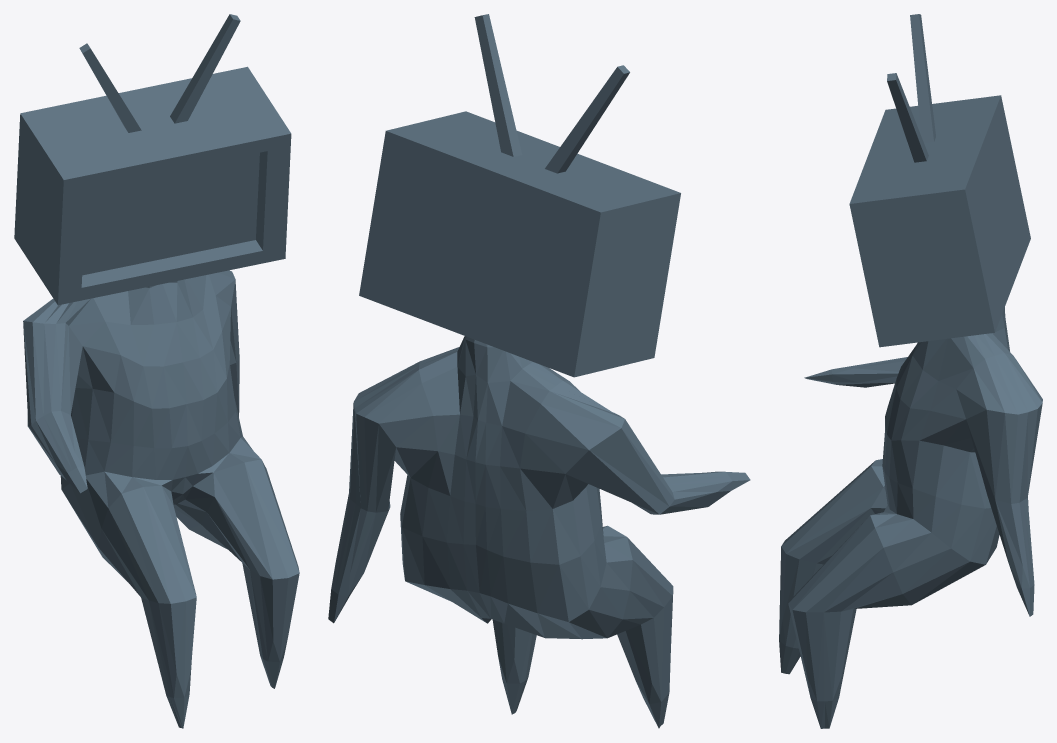
The model's file is TVhead-sitting2.dae.
The picture shows the model from 3 angles, left to right: view 1: azimuth 30°, elevation 25°; view 2: azimuth 150°, elevation 25°; view 3: azimuth 270°, elevation 25°; orthographic projection. The views are drawn at different scales.
Parts seen in each view (by area): view 1: Cube_003; view 2: Cube_003; view 3: Cube_003.
Boxes of the visible parts, x1=… form: Cube_003: x1=14, y1=14, x2=299, y2=728; Cube_003: x1=328, y1=14, x2=750, y2=728; Cube_003: x1=779, y1=14, x2=1042, y2=728.
Bounding box in the file's own units: 2.92 × 2.51 × 6.83.
